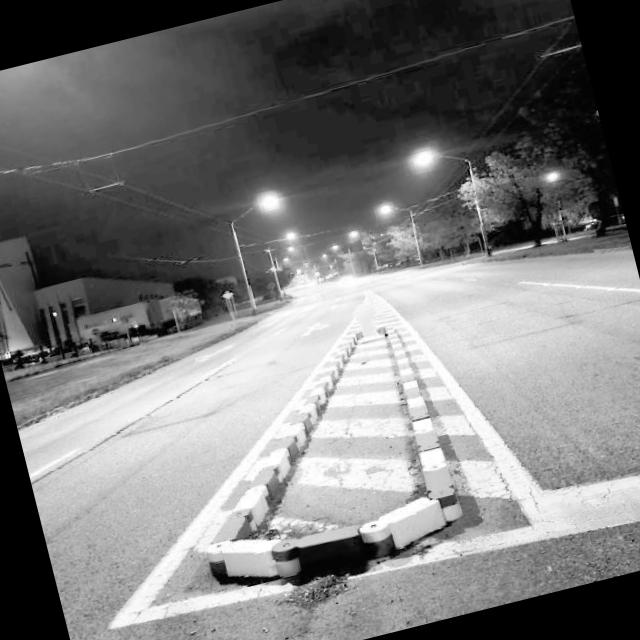Light: (416, 142, 494, 266), (226, 194, 302, 314), (532, 158, 583, 248), (258, 225, 310, 302), (380, 200, 426, 272), (341, 218, 387, 278)
